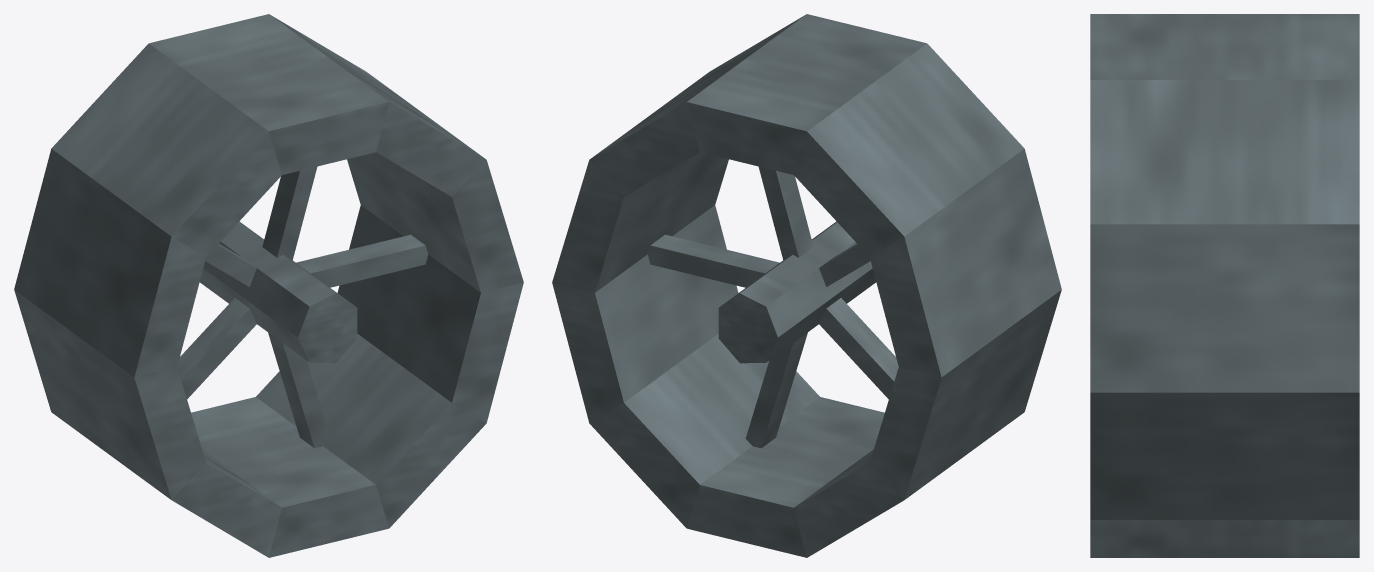
Rendered from valve_wheel.fbx.
The picture shows the model from 3 angles, left to right: view 1: azimuth 30°, elevation 25°; view 2: azimuth 150°, elevation 25°; view 3: azimuth 270°, elevation 25°; orthographic projection. The views are drawn at different scales.
Parts seen in each view (by area): view 1: valve_wheel; view 2: valve_wheel; view 3: valve_wheel.
Part boxes in pixels (x1=…): valve_wheel: x1=14, y1=14, x2=523, y2=557; valve_wheel: x1=552, y1=14, x2=1061, y2=557; valve_wheel: x1=1090, y1=14, x2=1359, y2=557.
Bounding box in the file's own units: 43 × 45 × 23.
Materials: 1 (1 with a texture image).
